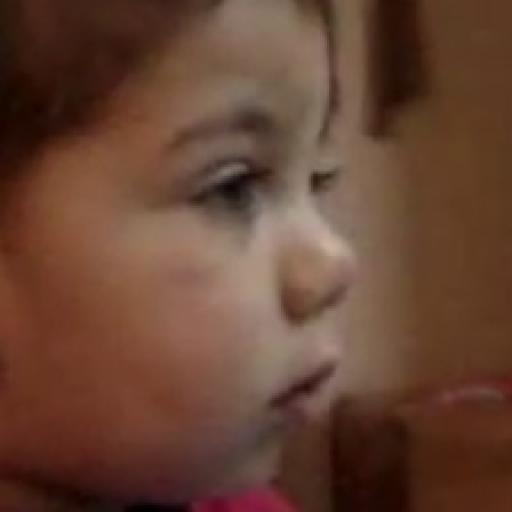Autism: (0, 48, 393, 512)
